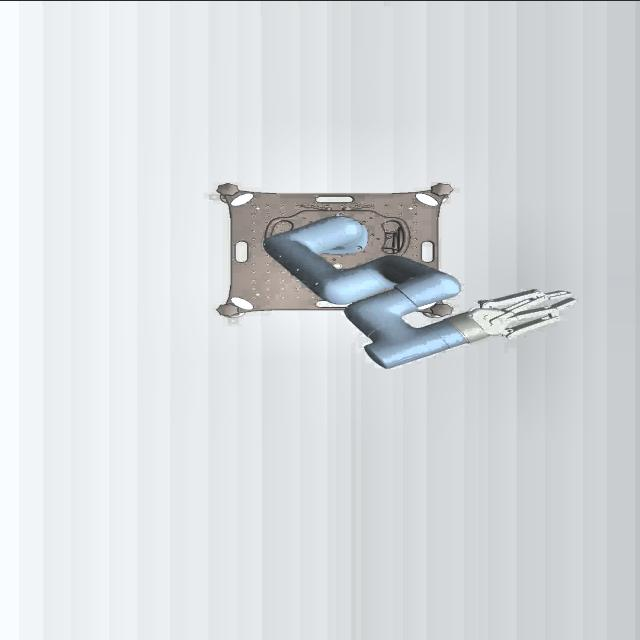robot: (252, 212, 578, 368)
